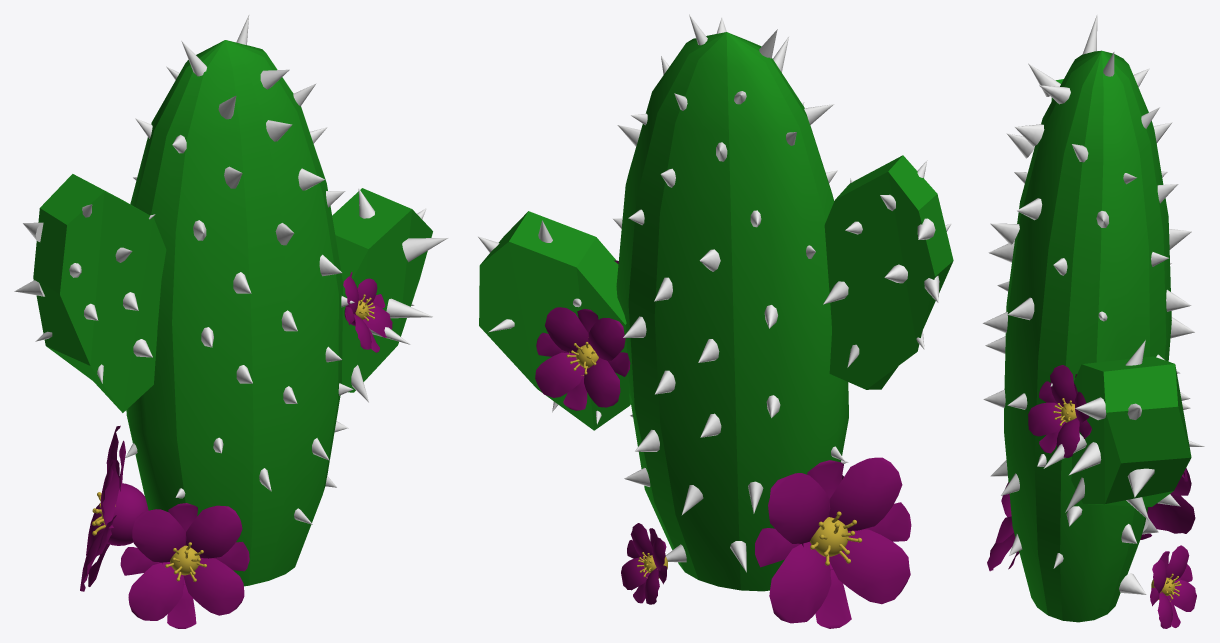
File: cactusFlores.fbx
The picture shows the model from 3 angles, left to right: view 1: azimuth 30°, elevation 25°; view 2: azimuth 150°, elevation 25°; view 3: azimuth 270°, elevation 25°; orthographic projection. The views are drawn at different scales.
Parts seen in each view (by area): view 1: Sphere001, hoja003, hoja2, petaloAncho014, petaloAncho013, petaloAncho015, petaloAncho012, capuchonFlor, petaloAncho003, petaloEstrecho013, petaloEstrecho012, petaloEstrecho014 (+1 smaller); view 2: Sphere001, hoja003, hoja2, petaloAncho002, petaloAncho003, petaloAncho001, petaloAncho, petaloAncho005, petaloAncho004, petaloAncho006, petaloEstrecho001, petaloAncho007 (+4 smaller); view 3: Sphere001, hoja2, petaloAncho001, petaloAncho017, petaloAncho016, petaloAncho018, petaloAncho010, petaloAncho011, Cone083, petaloAncho014, Cone079, Cone084 (+11 smaller).
Boxes of the visible parts, left/top/right/bottom form: Sphere001: left=126, top=40, right=342, bottom=586; hoja003: left=33, top=174, right=166, bottom=412; hoja2: left=332, top=188, right=432, bottom=392; petaloAncho014: left=183, top=558, right=244, bottom=615; petaloAncho013: left=128, top=562, right=184, bottom=620; petaloAncho015: left=186, top=505, right=242, bottom=558; petaloAncho012: left=132, top=509, right=185, bottom=562; capuchonFlor: left=107, top=483, right=148, bottom=545; petaloAncho003: left=101, top=459, right=119, bottom=528; petaloEstrecho013: left=167, top=579, right=196, bottom=628; petaloEstrecho012: left=120, top=547, right=160, bottom=575; petaloEstrecho014: left=212, top=541, right=249, bottom=571; Sphere001: left=616, top=32, right=848, bottom=591; hoja003: left=824, top=155, right=953, bottom=389; hoja2: left=479, top=211, right=632, bottom=430; petaloAncho002: left=829, top=529, right=910, bottom=604; petaloAncho003: left=829, top=457, right=902, bottom=531; petaloAncho001: left=769, top=541, right=831, bottom=623; petaloAncho: left=768, top=473, right=829, bottom=543; petaloAncho005: left=535, top=352, right=584, bottom=397; petaloAncho004: left=545, top=307, right=588, bottom=353; petaloAncho006: left=584, top=357, right=620, bottom=407; petaloEstrecho001: left=815, top=563, right=851, bottom=628; petaloAncho007: left=588, top=318, right=625, bottom=360; Sphere001: left=1004, top=50, right=1171, bottom=622; hoja2: left=1071, top=356, right=1191, bottom=506; petaloAncho001: left=1147, top=493, right=1195, bottom=533; petaloAncho017: left=1028, top=402, right=1065, bottom=436; petaloAncho016: left=1050, top=365, right=1076, bottom=406; petaloAncho018: left=1056, top=418, right=1079, bottom=457; petaloAncho010: left=1167, top=579, right=1196, bottom=611; petaloAncho011: left=1166, top=545, right=1189, bottom=580; Cone083: left=1068, top=442, right=1101, bottom=475; petaloAncho014: left=987, top=533, right=1015, bottom=571; Cone079: left=1127, top=468, right=1154, bottom=497; Cone084: left=1075, top=397, right=1106, bottom=420.
Bounding box in the file's own units: 6.24 × 7.71 × 2.71.
